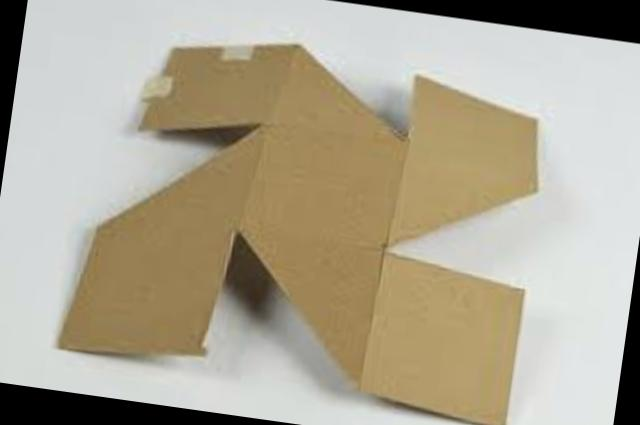cardboard paper: (65, 41, 542, 422)
